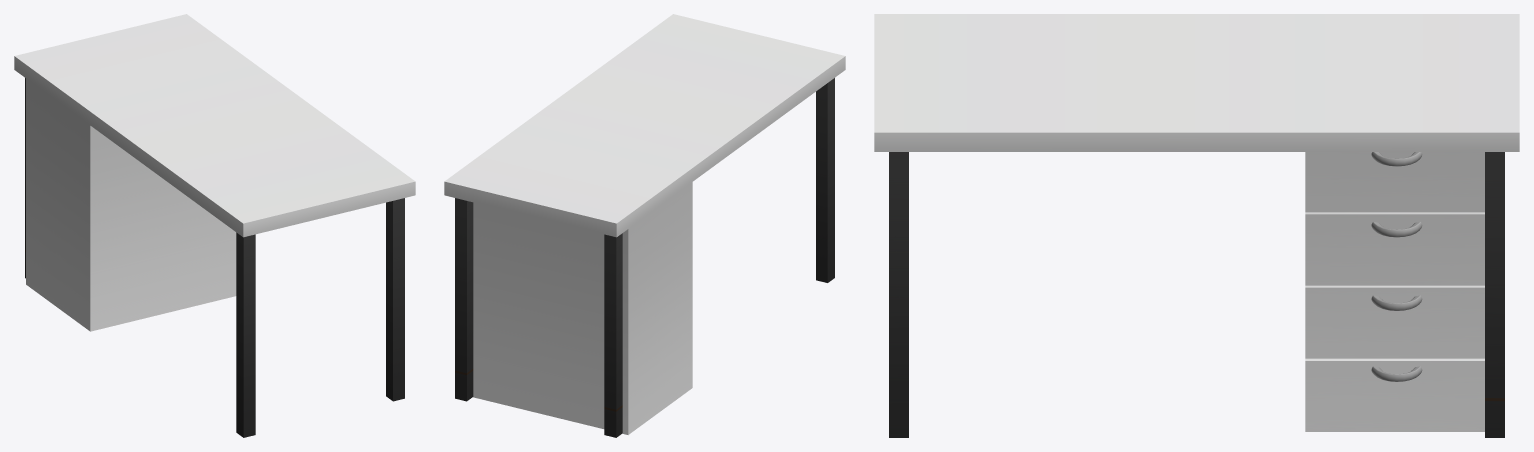
Rendered from Mesa.fbx.
3 views of the same model, side by side, from view 1: azimuth 30°, elevation 25°; view 2: azimuth 150°, elevation 25°; view 3: azimuth 270°, elevation 25° (orthographic). The views are drawn at different scales.
Parts seen in each view (by area): view 1: Tabla, Cajonera, Patas; view 2: Tabla, Cajonera, Patas; view 3: Tabla, Cajonera, Patas, Tiradores.
Boxes of the visible parts, box(x1,y1,x2,y2) form: Tabla: box(14, 14, 415, 237); Cajonera: box(26, 78, 236, 331); Patas: box(25, 78, 404, 437); Tabla: box(444, 14, 845, 237); Cajonera: box(473, 182, 692, 434); Patas: box(455, 78, 834, 437); Tabla: box(874, 14, 1519, 151); Cajonera: box(1305, 152, 1484, 431); Patas: box(889, 152, 1504, 437); Tiradores: box(1371, 152, 1422, 381).
Bounding box in the file's own units: 60 × 73.19 × 138.
